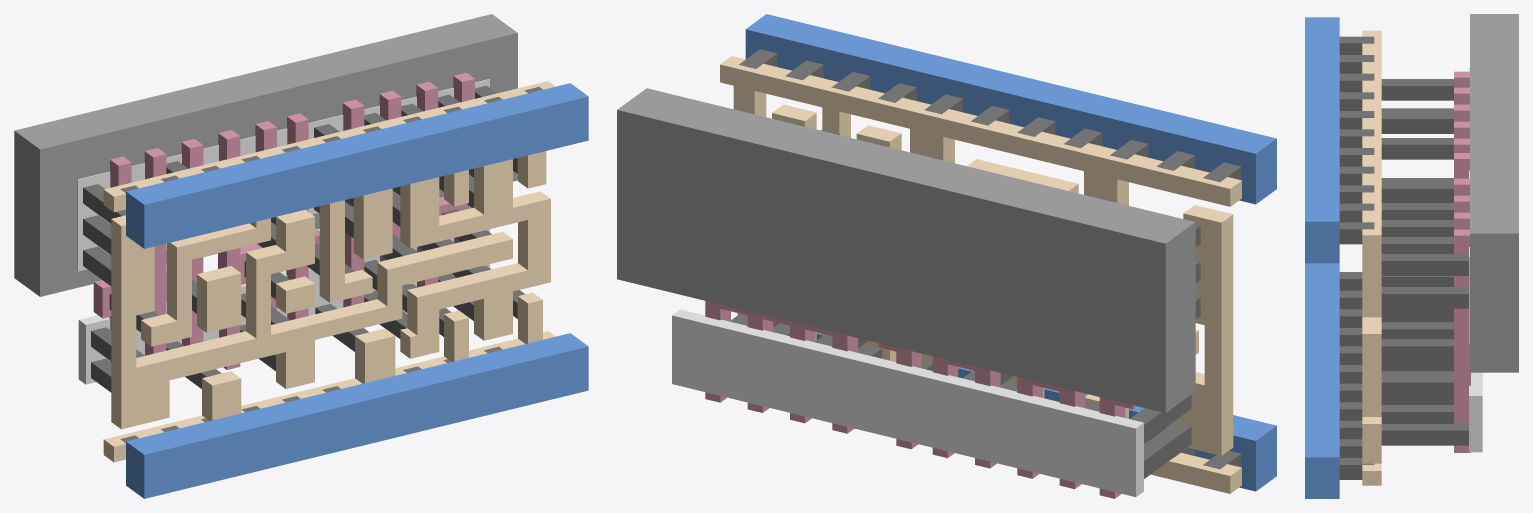
The model's file is sky130_fd_sc_hd__maj3_4.gds.gltf.
3 views of the same model, side by side, from view 1: azimuth 30°, elevation 25°; view 2: azimuth 150°, elevation 25°; view 3: azimuth 270°, elevation 25° (orthographic). The views are drawn at different scales.
Parts seen in each view (by area): view 1: sky130_fd_sc_hd__maj3_4_li1, sky130_fd_sc_hd__maj3_4_met1, sky130_fd_sc_hd__maj3_4_nwell, sky130_fd_sc_hd__maj3_4_poly, sky130_fd_sc_hd__maj3_4_licon, sky130_fd_sc_hd__maj3_4_diff, sky130_fd_sc_hd__maj3_4_mcon; view 2: sky130_fd_sc_hd__maj3_4_nwell, sky130_fd_sc_hd__maj3_4_diff, sky130_fd_sc_hd__maj3_4_li1, sky130_fd_sc_hd__maj3_4_met1, sky130_fd_sc_hd__maj3_4_poly, sky130_fd_sc_hd__maj3_4_mcon, sky130_fd_sc_hd__maj3_4_licon; view 3: sky130_fd_sc_hd__maj3_4_licon, sky130_fd_sc_hd__maj3_4_nwell, sky130_fd_sc_hd__maj3_4_met1, sky130_fd_sc_hd__maj3_4_mcon, sky130_fd_sc_hd__maj3_4_li1, sky130_fd_sc_hd__maj3_4_poly, sky130_fd_sc_hd__maj3_4_diff.
Part boxes in pixels (x1,y1,x2,y2): sky130_fd_sc_hd__maj3_4_li1: (103,81,555,462); sky130_fd_sc_hd__maj3_4_met1: (126,83,588,498); sky130_fd_sc_hd__maj3_4_nwell: (14,14,517,296); sky130_fd_sc_hd__maj3_4_poly: (93,72,474,369); sky130_fd_sc_hd__maj3_4_licon: (83,85,524,392); sky130_fd_sc_hd__maj3_4_diff: (77,79,489,384); sky130_fd_sc_hd__maj3_4_mcon: (120,87,542,442); sky130_fd_sc_hd__maj3_4_nwell: (617,88,1195,412); sky130_fd_sc_hd__maj3_4_diff: (672,309,1143,496); sky130_fd_sc_hd__maj3_4_li1: (720,56,1241,493); sky130_fd_sc_hd__maj3_4_met1: (745,14,1276,491); sky130_fd_sc_hd__maj3_4_poly: (705,301,1136,498); sky130_fd_sc_hd__maj3_4_mcon: (739,49,1241,469); sky130_fd_sc_hd__maj3_4_licon: (731,109,1200,478); sky130_fd_sc_hd__maj3_4_licon: (1381,79,1468,445); sky130_fd_sc_hd__maj3_4_nwell: (1470,14,1518,372); sky130_fd_sc_hd__maj3_4_met1: (1305,17,1339,498); sky130_fd_sc_hd__maj3_4_mcon: (1339,36,1374,479); sky130_fd_sc_hd__maj3_4_li1: (1362,30,1381,485); sky130_fd_sc_hd__maj3_4_poly: (1454,71,1470,452); sky130_fd_sc_hd__maj3_4_diff: (1469,68,1482,452).
Bounding box in the file's own units: 5.44 × 3.2 × 2.24.
